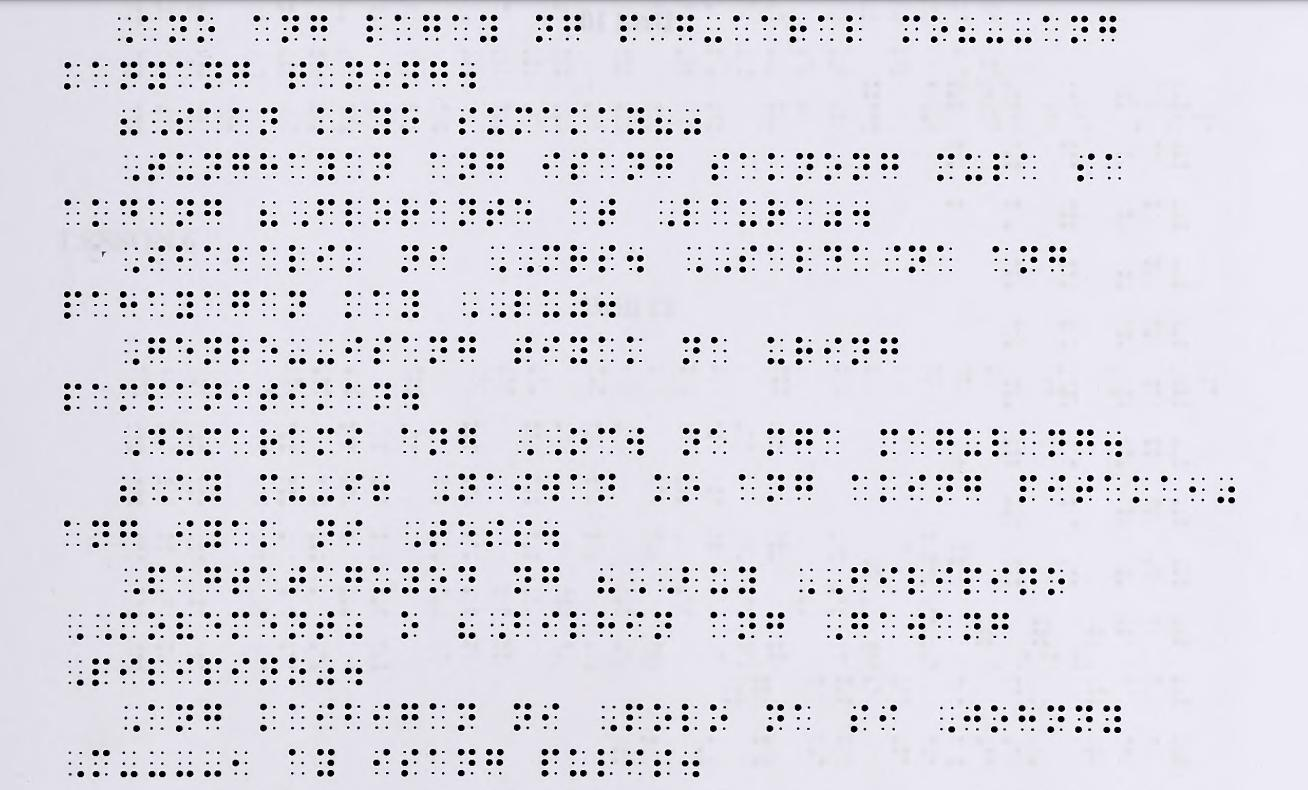A: (140, 14, 158, 43), (148, 703, 165, 733), (176, 474, 195, 500)
B: (682, 566, 700, 595), (513, 610, 529, 640)
D: (146, 427, 167, 456)
F: (316, 198, 337, 225), (850, 567, 868, 595)
G: (147, 336, 166, 366), (850, 613, 871, 640)
I: (147, 245, 165, 272)
J: (963, 703, 982, 735)
L: (513, 291, 532, 319), (683, 199, 699, 227)
M: (118, 612, 138, 640), (92, 748, 111, 777), (543, 245, 559, 273)
N: (459, 472, 475, 501)
O: (570, 428, 586, 456)
P: (624, 703, 646, 733), (148, 566, 167, 594), (93, 658, 108, 687)
S: (174, 107, 196, 136), (739, 244, 757, 274)
T: (429, 520, 446, 550), (147, 153, 164, 182)
a: (1041, 12, 1062, 45), (286, 425, 306, 458), (203, 105, 223, 137), (315, 59, 335, 90), (709, 426, 729, 457), (851, 245, 871, 275), (393, 15, 414, 43), (315, 565, 335, 594), (345, 105, 364, 135), (429, 197, 448, 227), (91, 383, 110, 413), (175, 381, 194, 411), (1103, 474, 1122, 504), (1161, 475, 1180, 505), (598, 103, 615, 136), (175, 61, 195, 89), (147, 199, 167, 227), (570, 197, 588, 228), (760, 14, 779, 43), (400, 425, 419, 454), (288, 702, 307, 731), (647, 14, 665, 44), (817, 14, 835, 44), (541, 105, 559, 135), (486, 471, 504, 501), (65, 519, 83, 549), (288, 151, 305, 182), (1105, 151, 1122, 182), (91, 291, 109, 320), (344, 381, 362, 410), (569, 472, 587, 501), (65, 199, 84, 226), (428, 702, 447, 729), (824, 427, 841, 457), (879, 611, 896, 641), (738, 151, 756, 179), (203, 245, 221, 273), (992, 245, 1010, 273), (230, 428, 248, 456), (909, 428, 927, 456), (710, 612, 728, 640), (796, 199, 813, 228), (261, 244, 278, 273), (712, 336, 729, 365), (93, 60, 108, 92), (599, 149, 615, 179), (1021, 151, 1037, 181), (936, 245, 952, 275), (429, 152, 446, 180), (767, 245, 784, 273), (260, 289, 277, 317), (738, 474, 755, 502), (794, 703, 811, 731), (289, 749, 306, 777), (233, 106, 249, 135), (429, 748, 445, 777), (734, 15, 752, 40), (853, 474, 869, 502), (345, 153, 362, 179), (935, 612, 952, 638), (402, 335, 418, 362), (1020, 429, 1036, 456), (231, 520, 247, 547), (260, 565, 276, 592), (175, 567, 192, 592), (452, 14, 467, 42), (149, 289, 164, 317), (204, 290, 219, 318), (374, 290, 390, 316), (712, 199, 727, 225), (254, 16, 269, 41), (600, 336, 613, 364)
b: (343, 701, 361, 730), (175, 246, 193, 271), (232, 244, 248, 271)
c: (596, 426, 615, 458)
capital: (122, 567, 142, 595), (122, 152, 140, 183), (67, 614, 86, 642), (825, 614, 844, 642), (798, 565, 815, 596), (115, 17, 135, 43), (658, 199, 675, 229), (714, 245, 731, 275), (152, 107, 170, 135), (291, 199, 309, 227), (686, 245, 704, 273), (404, 521, 422, 549), (95, 613, 112, 642), (124, 704, 141, 733), (123, 246, 141, 273), (600, 705, 618, 732), (67, 751, 85, 778), (828, 565, 843, 597), (939, 705, 955, 735), (518, 247, 535, 274), (461, 291, 478, 318), (490, 291, 506, 319), (123, 429, 139, 457), (519, 427, 535, 455), (659, 566, 675, 594), (124, 338, 139, 367), (68, 661, 84, 688), (151, 476, 168, 501), (491, 247, 507, 273), (630, 567, 646, 593), (490, 612, 505, 639), (546, 429, 560, 457), (434, 476, 449, 501)
d: (823, 244, 841, 273), (456, 565, 475, 592), (120, 200, 139, 225)
dot_4: (883, 245, 902, 272)
e: (259, 335, 279, 364), (175, 336, 195, 364), (259, 612, 279, 638), (203, 612, 222, 639), (514, 197, 532, 225), (458, 520, 477, 546)
enye: (906, 243, 927, 275)
g: (880, 150, 901, 182), (1097, 13, 1119, 43), (231, 59, 252, 89), (231, 151, 251, 182), (485, 152, 506, 181), (653, 152, 674, 181), (562, 13, 581, 45), (119, 519, 138, 550), (540, 566, 561, 594), (795, 474, 815, 503), (458, 424, 476, 456), (428, 59, 449, 86), (1047, 245, 1067, 273), (676, 15, 695, 44), (485, 748, 504, 777), (1076, 427, 1094, 457), (203, 199, 222, 227), (963, 474, 982, 502), (203, 565, 222, 593), (422, 14, 440, 43), (458, 336, 476, 365), (992, 612, 1010, 641), (766, 611, 785, 638), (309, 14, 327, 42), (795, 427, 813, 455), (204, 702, 222, 730), (401, 703, 419, 731), (937, 426, 954, 455), (879, 336, 897, 363), (345, 565, 362, 592), (233, 290, 249, 318)
h: (260, 150, 279, 179), (596, 612, 615, 641), (119, 289, 138, 317), (1019, 705, 1035, 731)
i: (1046, 474, 1067, 505), (316, 244, 335, 276), (541, 700, 560, 732), (541, 336, 560, 366), (880, 565, 898, 596), (175, 656, 194, 685), (344, 519, 362, 549), (626, 611, 645, 639), (626, 749, 645, 777), (176, 519, 194, 548), (373, 747, 391, 776), (343, 428, 363, 454), (346, 473, 364, 501), (908, 474, 926, 502), (543, 151, 560, 180), (429, 245, 447, 272), (515, 472, 531, 502), (122, 658, 138, 688), (824, 336, 841, 364), (232, 381, 249, 409), (232, 658, 249, 686), (373, 702, 390, 730), (289, 383, 306, 410), (880, 704, 897, 731), (937, 567, 953, 595), (317, 703, 333, 731), (543, 611, 558, 640), (345, 336, 361, 362), (992, 568, 1008, 594)
k: (315, 105, 337, 137), (258, 704, 279, 733), (91, 197, 111, 227), (767, 151, 786, 181), (316, 383, 336, 411), (654, 472, 672, 502), (878, 475, 898, 502), (570, 106, 589, 134), (626, 336, 644, 365), (345, 289, 362, 319), (1134, 474, 1149, 504), (345, 245, 361, 273), (261, 520, 277, 547), (65, 61, 80, 88)
l: (344, 199, 365, 229), (365, 14, 384, 44), (681, 702, 699, 733), (597, 747, 615, 778), (287, 244, 306, 273), (795, 245, 813, 275), (568, 611, 587, 639), (146, 658, 165, 686), (908, 565, 924, 597), (845, 15, 862, 45), (991, 429, 1009, 456), (994, 153, 1008, 181)
m: (900, 14, 924, 46), (514, 105, 534, 137), (119, 381, 139, 410), (767, 429, 786, 458), (231, 613, 250, 642), (937, 151, 955, 181), (880, 427, 898, 457), (204, 426, 221, 457), (316, 428, 334, 455), (260, 474, 277, 502)
n: (167, 13, 190, 42), (1070, 12, 1090, 45), (201, 381, 223, 411), (174, 702, 195, 733), (280, 13, 302, 42), (372, 151, 392, 182), (455, 702, 476, 731), (1046, 703, 1065, 735), (344, 60, 364, 90), (765, 703, 785, 733), (119, 60, 137, 93), (795, 150, 814, 181), (513, 701, 532, 732), (850, 152, 870, 181), (681, 426, 699, 458), (1018, 566, 1036, 598), (1075, 705, 1093, 737), (402, 58, 421, 88), (1020, 245, 1039, 275), (429, 335, 448, 365), (514, 565, 533, 595), (654, 611, 674, 639), (259, 106, 278, 135), (204, 337, 223, 366), (935, 474, 954, 503), (90, 518, 109, 547), (288, 612, 307, 641), (203, 61, 223, 88), (625, 151, 645, 178), (316, 518, 334, 548), (259, 658, 278, 686), (458, 151, 475, 182), (289, 288, 306, 319), (536, 14, 554, 43), (737, 612, 755, 641), (401, 245, 420, 272), (205, 151, 222, 181), (429, 427, 446, 457), (767, 473, 784, 503), (458, 199, 475, 228), (682, 336, 699, 365), (457, 748, 474, 777), (176, 199, 194, 226), (597, 473, 614, 501), (964, 613, 981, 641), (852, 337, 869, 364), (1049, 430, 1066, 457), (374, 383, 391, 409)
o: (147, 610, 168, 644), (401, 105, 422, 135), (652, 703, 673, 733), (197, 13, 216, 45), (373, 197, 392, 229), (930, 14, 949, 45), (709, 704, 729, 733), (823, 153, 845, 179), (288, 657, 306, 687), (371, 61, 390, 88), (991, 704, 1008, 734), (401, 610, 418, 639), (1047, 568, 1065, 595), (430, 566, 447, 594), (682, 475, 699, 502)
p: (618, 13, 640, 42), (202, 656, 222, 687), (963, 567, 982, 597), (146, 381, 166, 409), (541, 747, 559, 777), (64, 381, 81, 411), (1021, 475, 1038, 502), (64, 291, 80, 319)
r: (256, 427, 277, 458), (401, 196, 420, 229), (793, 336, 814, 365), (569, 244, 588, 274), (787, 15, 807, 42), (231, 335, 249, 364), (768, 198, 785, 227)
s: (457, 106, 479, 136), (371, 336, 393, 365), (710, 152, 731, 180), (570, 149, 588, 179), (1077, 153, 1095, 183), (851, 705, 871, 732), (597, 244, 616, 272), (486, 518, 503, 549), (402, 749, 419, 778), (654, 749, 671, 777), (515, 519, 531, 548)
t: (485, 197, 505, 230), (598, 197, 617, 227), (286, 61, 306, 89), (315, 611, 335, 639), (1075, 474, 1093, 505), (513, 336, 532, 365), (259, 384, 279, 411), (288, 565, 307, 592), (232, 565, 250, 593)
u: (540, 288, 561, 319), (372, 565, 393, 595), (709, 565, 729, 595), (175, 150, 194, 181), (739, 199, 758, 227), (965, 152, 982, 182), (768, 336, 786, 364), (487, 107, 504, 136), (176, 427, 193, 455), (964, 428, 981, 456), (570, 749, 587, 777)
v: (175, 610, 194, 642)
w: (624, 428, 646, 455), (908, 611, 927, 642), (541, 472, 560, 502)
y: (477, 14, 499, 45), (1103, 703, 1123, 736), (147, 58, 167, 90), (372, 105, 392, 135), (401, 565, 421, 595), (203, 520, 221, 551), (569, 335, 588, 364), (203, 473, 222, 502), (738, 565, 756, 595), (626, 106, 645, 134), (175, 291, 194, 319), (318, 151, 335, 181), (401, 290, 420, 315), (318, 749, 333, 777)
z: (569, 289, 587, 319)
